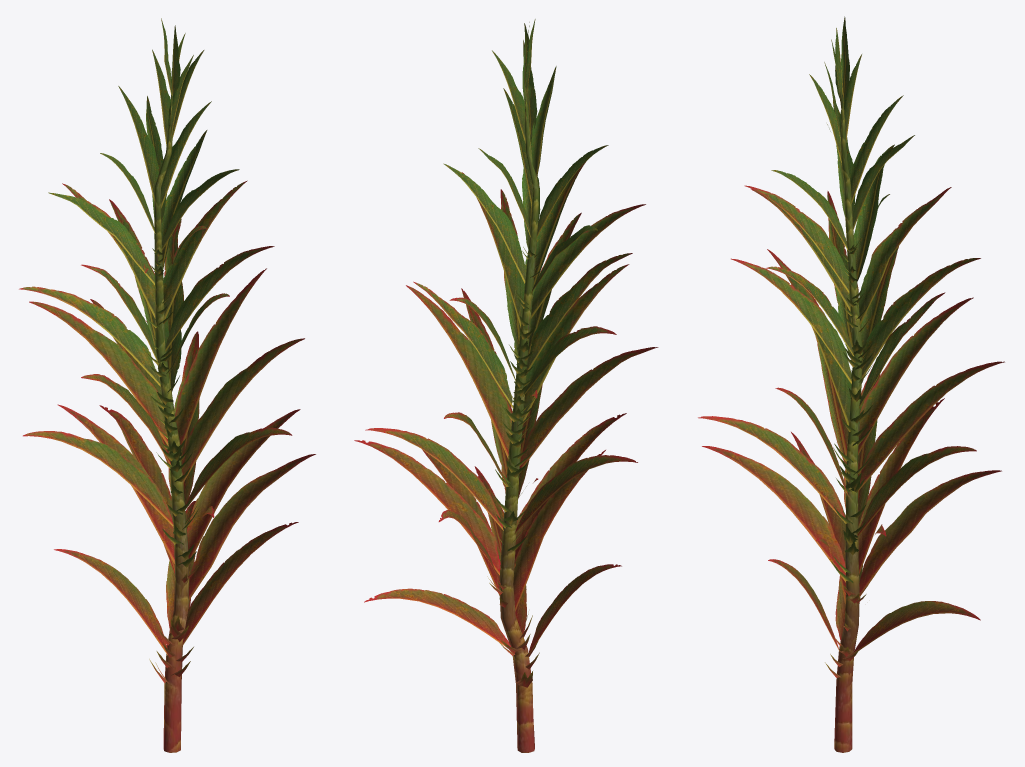
File: Plant - Alien Plant 5 1-B7dOXHag.glb
3 renders of one model, left to right at view 1: azimuth 30°, elevation 25°; view 2: azimuth 150°, elevation 25°; view 3: azimuth 270°, elevation 25°, orthographic.
Parts seen in each view (by area): view 1: Plant5_1_L0(Clone); view 2: Plant5_1_L0(Clone); view 3: Plant5_1_L0(Clone).
Part boxes in pixels (x1,y1,x2,y2): Plant5_1_L0(Clone): [19, 18, 315, 752]; Plant5_1_L0(Clone): [354, 19, 658, 752]; Plant5_1_L0(Clone): [698, 16, 1004, 752].
Bounding box in the file's own units: 2.47 × 5.99 × 2.37.
Materials: 2 (2 with a texture image).
